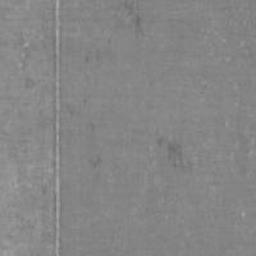Welding line: (54, 0, 61, 256)
